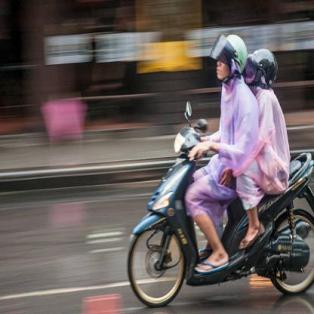Motocicleta: (122, 110, 313, 313)
